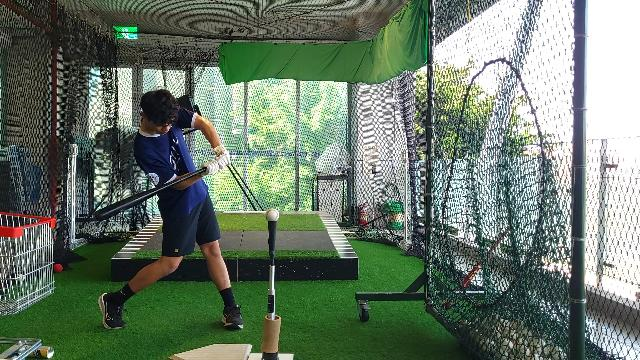bat: (94, 166, 208, 222)
